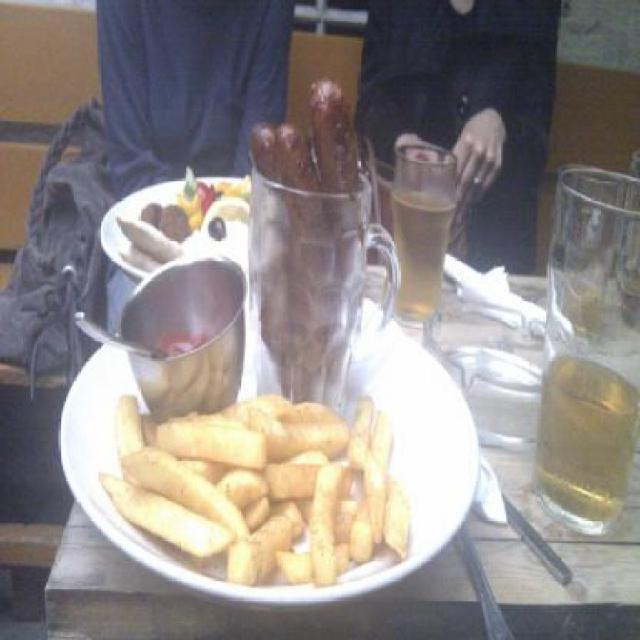French fries: (79, 377, 416, 595)
